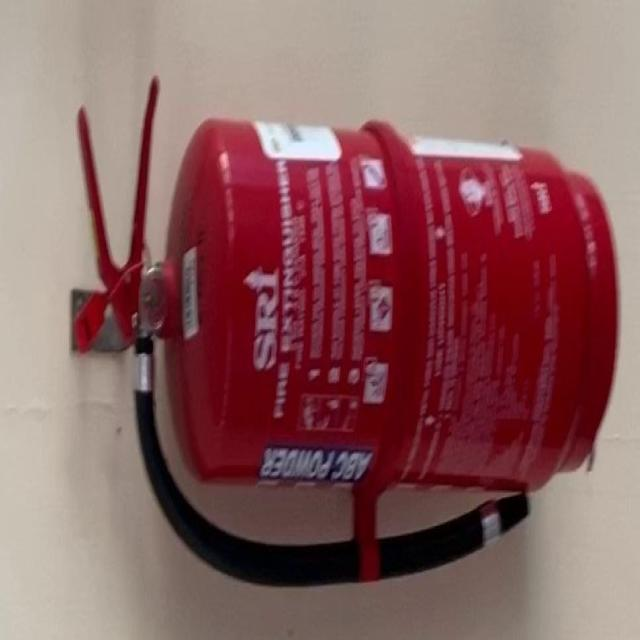fire_extinguisher: (73, 70, 622, 591)
